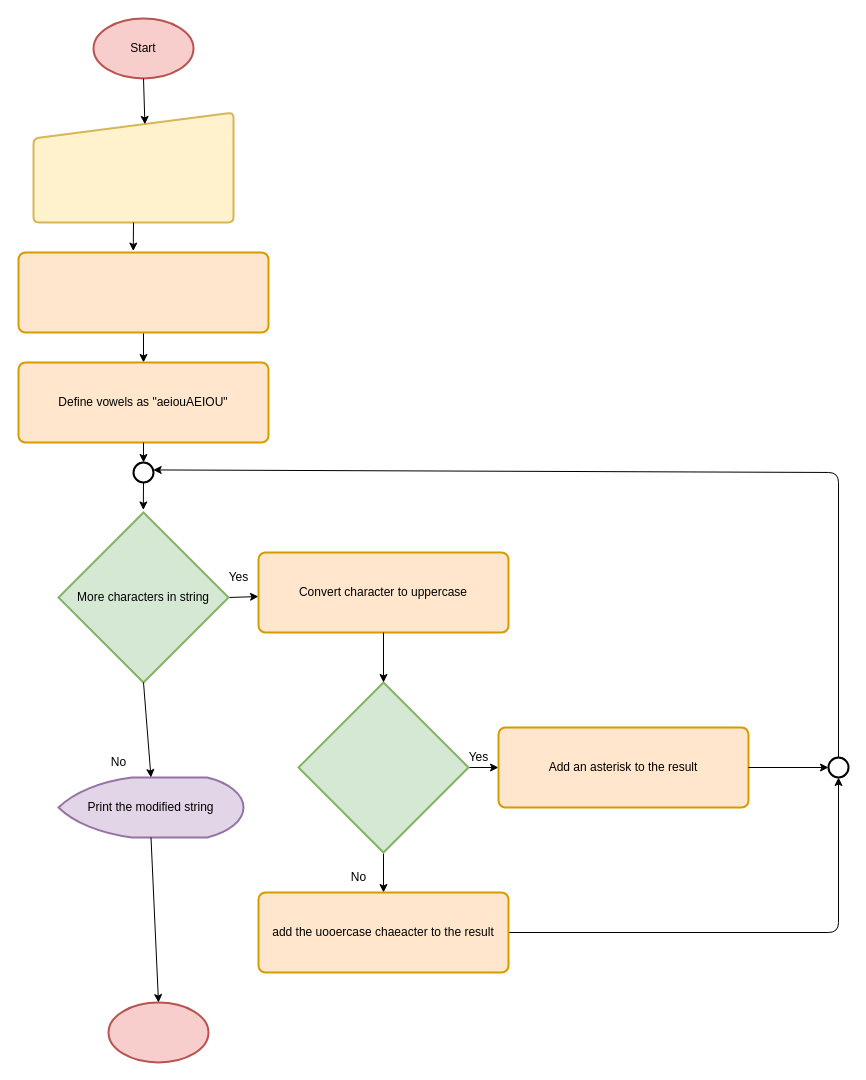
Image size: 866x1080. Some labels were removed from this diagram. Here are the shapes that lost their labels. From the top down, the centre of each, then its label:
(x=133, y=167): Reaf input string from the user
(x=143, y=292): Initialize an empty string for the result
(x=383, y=767): Is character a vowel
(x=158, y=1032): End
